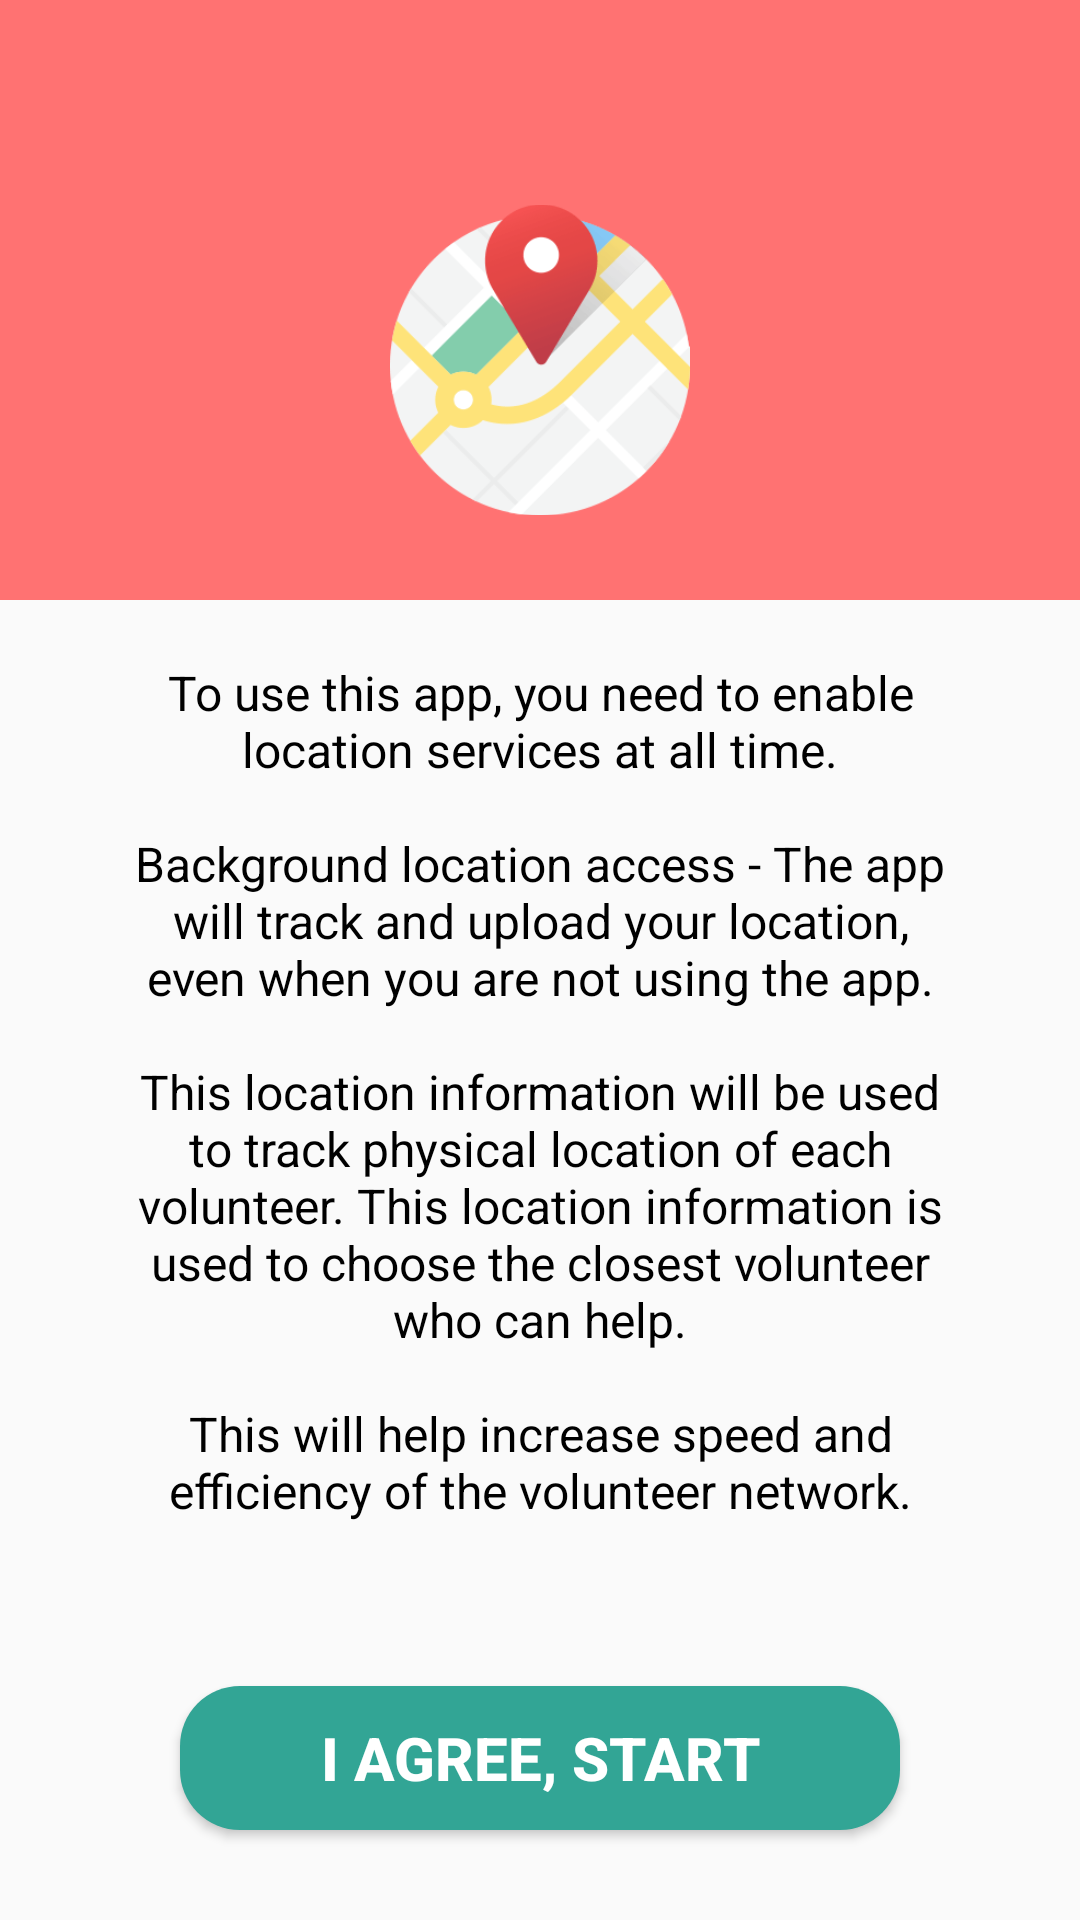

Named icons in this screenshot (1080 x 1920) and their centers, (x,y):
map: (540,360)
